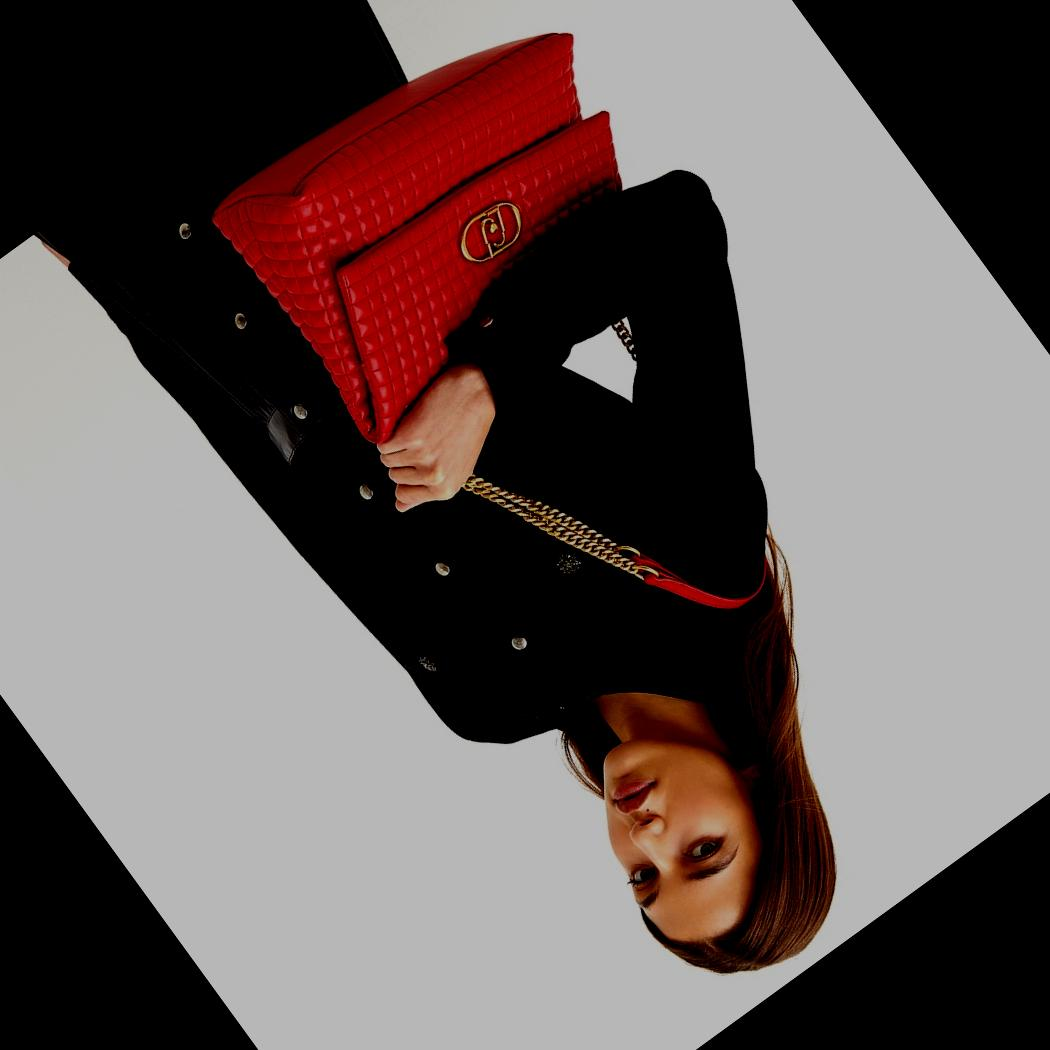LIU-JO: (466, 204, 520, 258)
